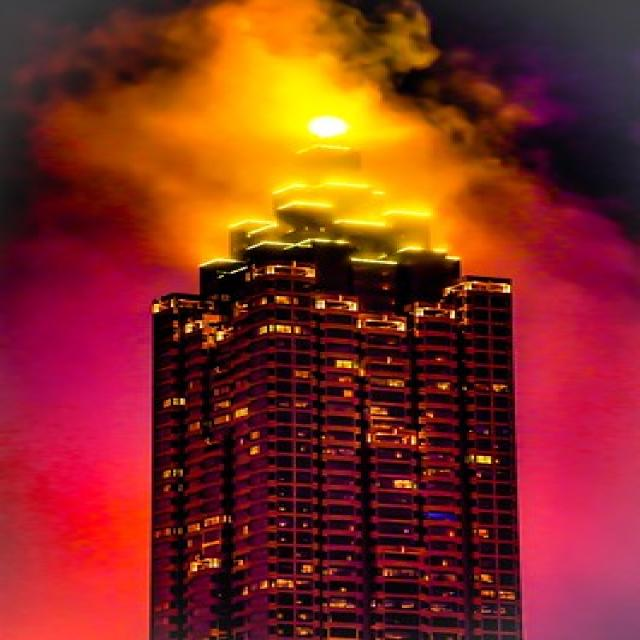building: (136, 139, 526, 640)
